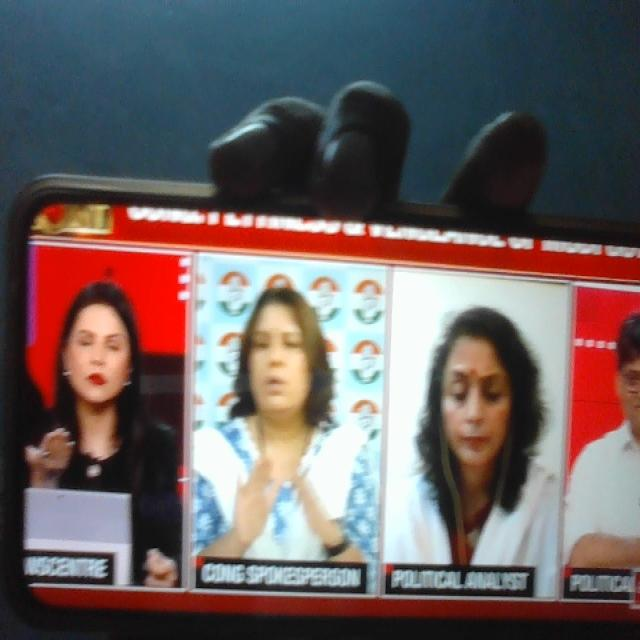fake: (421, 296, 532, 507)
